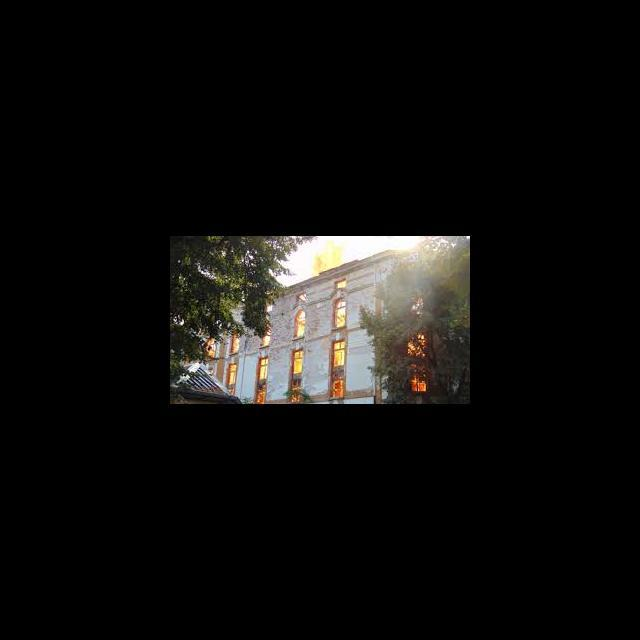Fire: (406, 330, 428, 355), (409, 366, 428, 392), (334, 338, 346, 366), (292, 348, 303, 375), (257, 358, 269, 380), (227, 362, 238, 384), (336, 310, 348, 328), (293, 320, 305, 338), (230, 332, 240, 352), (260, 333, 272, 345), (210, 342, 218, 356), (336, 280, 347, 288)
